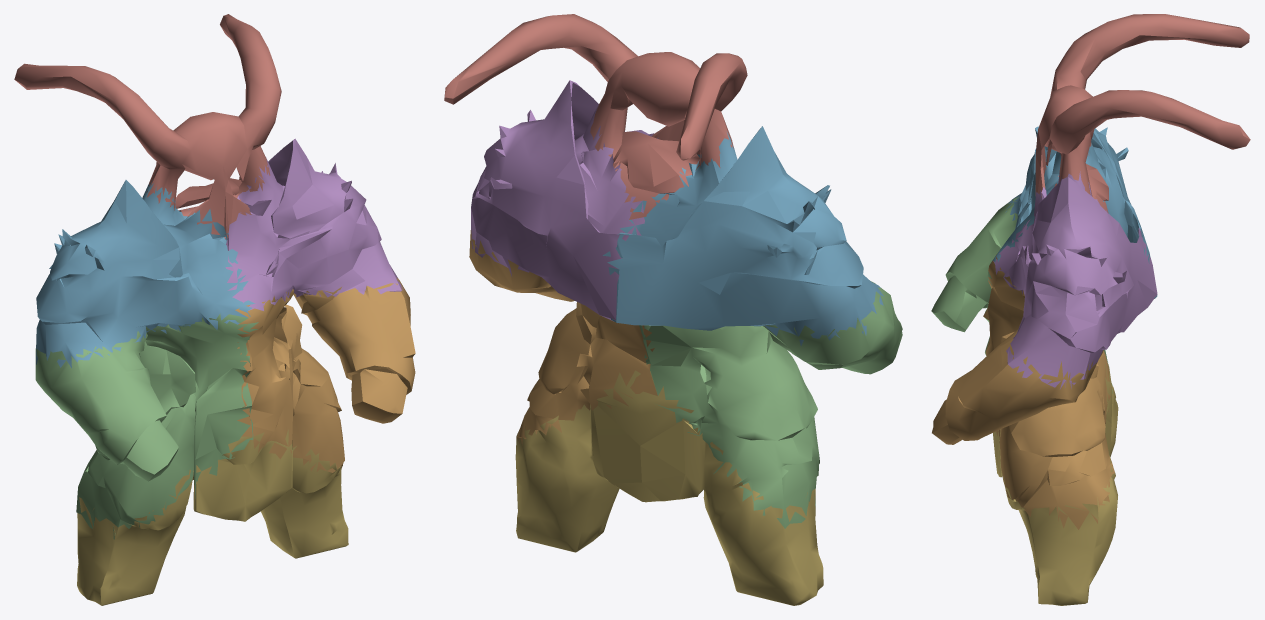
Rendered from chunky-knight-parts_preview_web.glb.
3 renders of one model, left to right at view 1: azimuth 30°, elevation 25°; view 2: azimuth 150°, elevation 25°; view 3: azimuth 270°, elevation 25°, orthographic. The views are drawn at different scales.
Visible parts, largest first — view 1: part_00_preview; view 2: part_00_preview; view 3: part_00_preview.
Boxes of the visible parts, left/top/right/bottom form: part_00_preview: left=14, top=14, right=415, bottom=605; part_00_preview: left=444, top=14, right=902, bottom=605; part_00_preview: left=931, top=14, right=1250, bottom=605.
Bounding box in the file's own units: 1.54 × 1.99 × 1.18.
